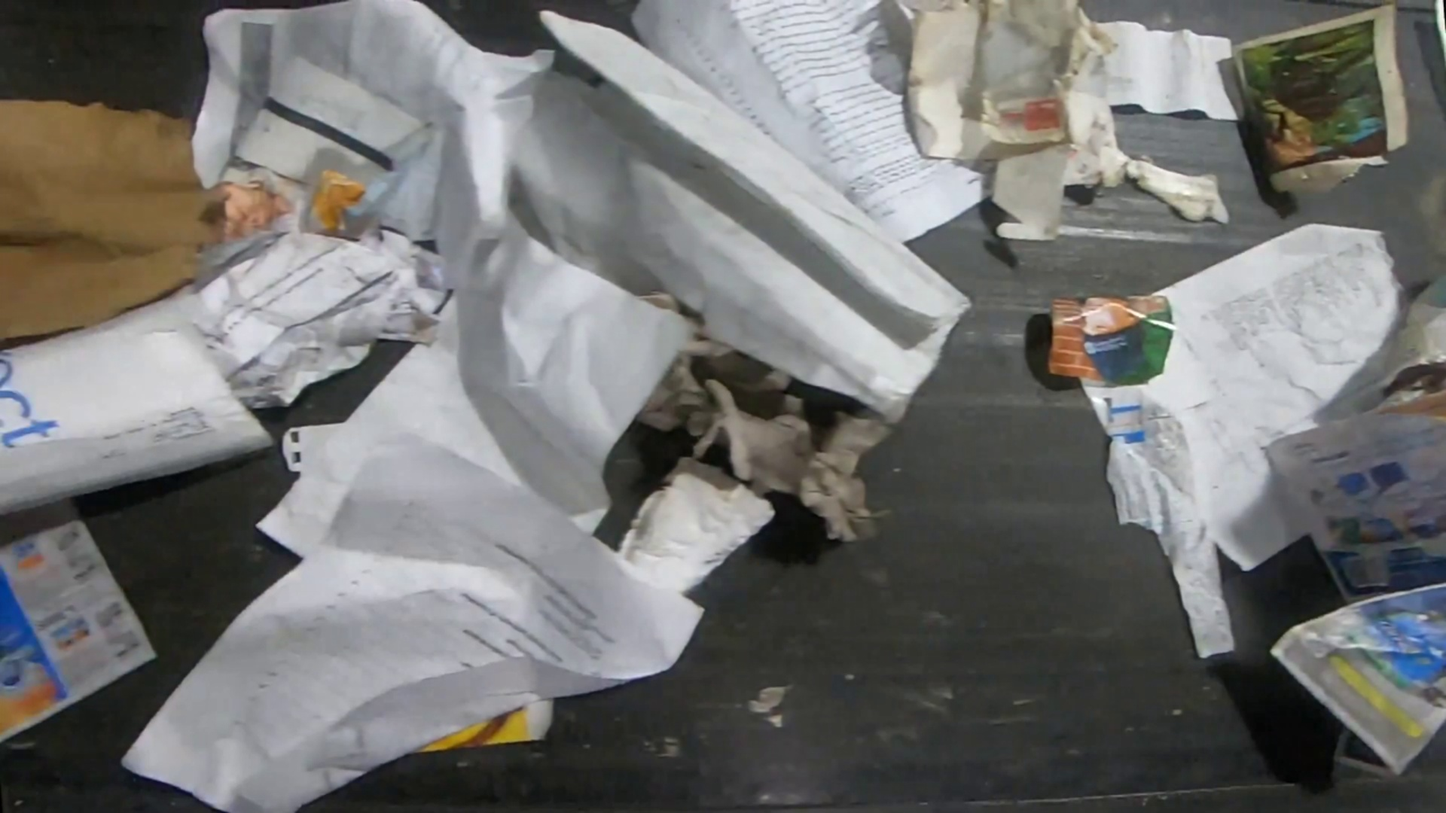cardboard: (890, 0, 1232, 241), (0, 101, 232, 342)
